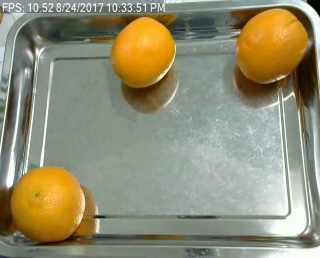Orange: (9, 165, 86, 242), (235, 8, 309, 84), (110, 15, 178, 88)
